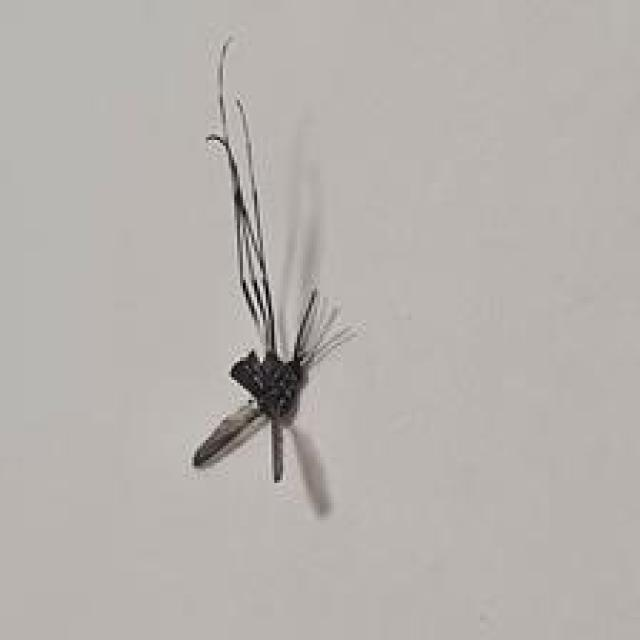Aedes albopictus: (190, 33, 359, 516)
